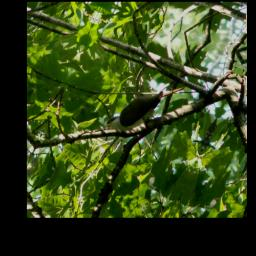Cuckoo: (101, 65, 187, 150)
